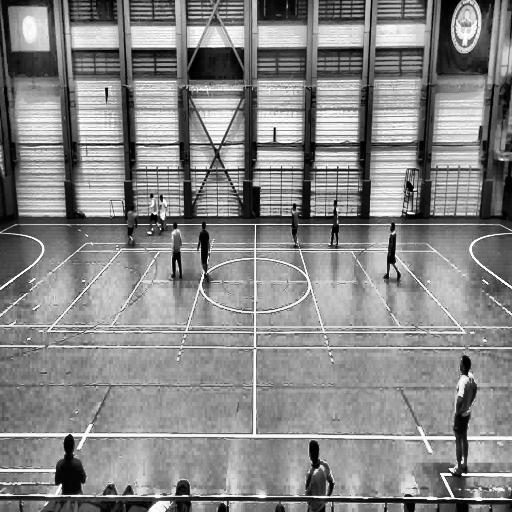ball: (150, 226, 156, 234)
player: (444, 354, 478, 476), (306, 441, 335, 510), (383, 221, 401, 282), (198, 220, 211, 283), (171, 221, 183, 278), (290, 202, 302, 248), (328, 200, 338, 248), (127, 203, 137, 244), (149, 194, 159, 234), (158, 194, 168, 232)
